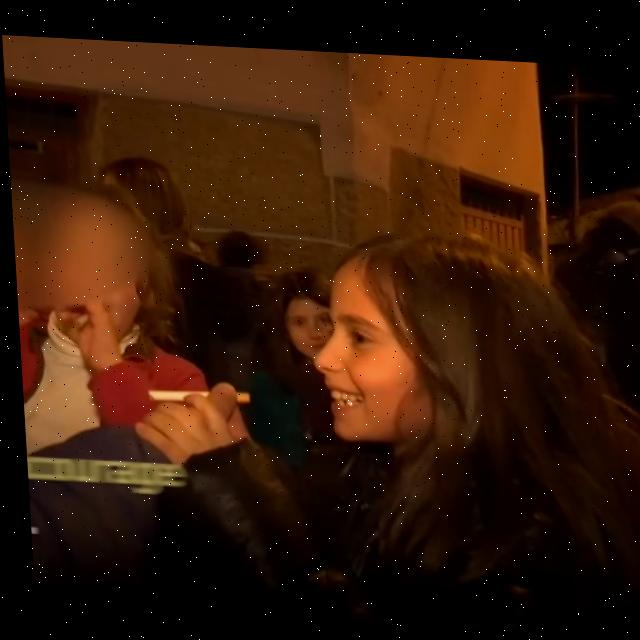cigarette: (143, 386, 245, 403)
